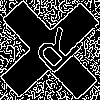R: (25, 25, 83, 83)
